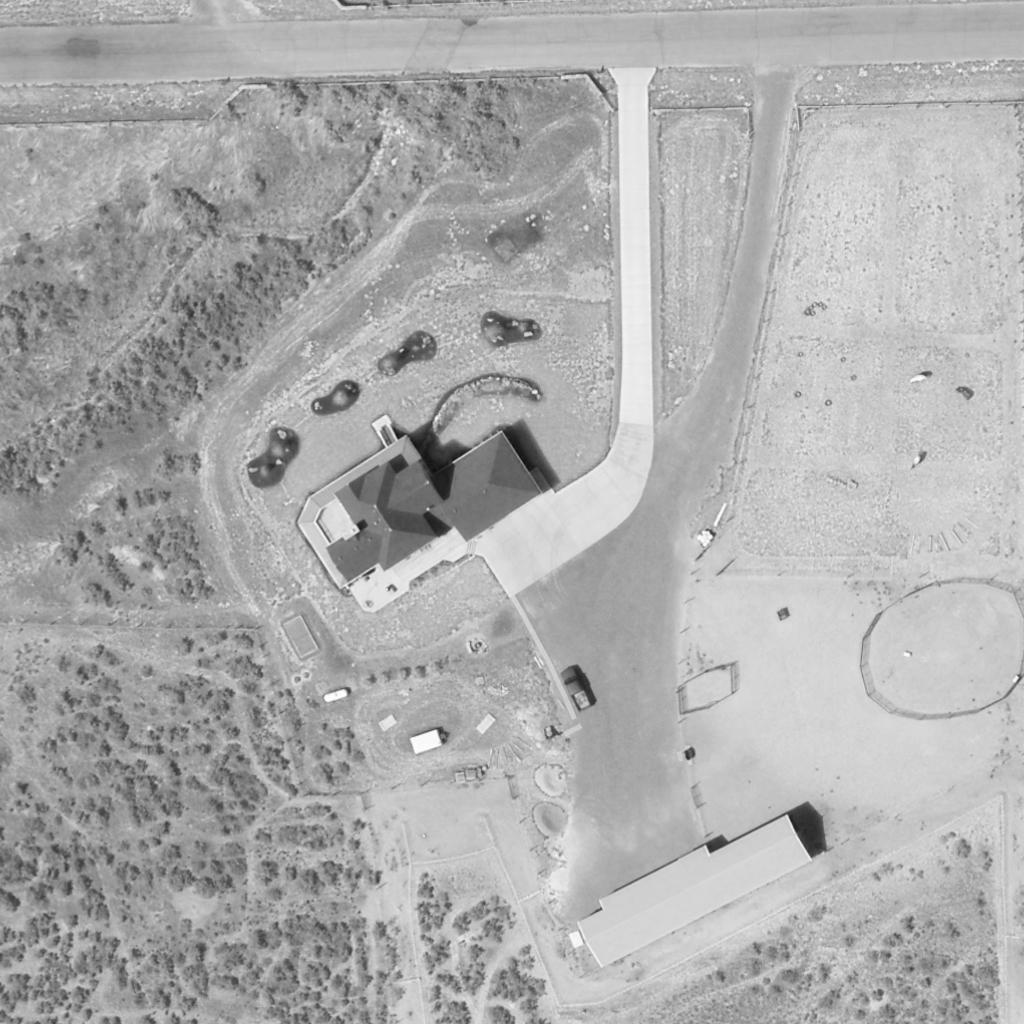vehicle: (559, 665, 597, 711)
